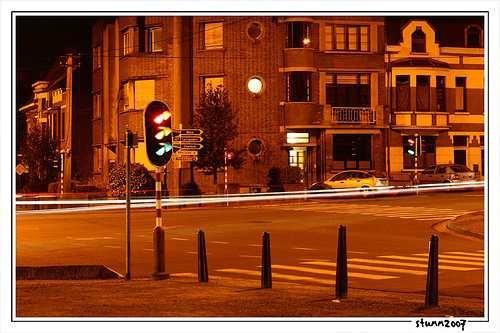5: (149, 108, 170, 127)
9: (150, 127, 175, 144)
red traffic light: (146, 141, 174, 164)
